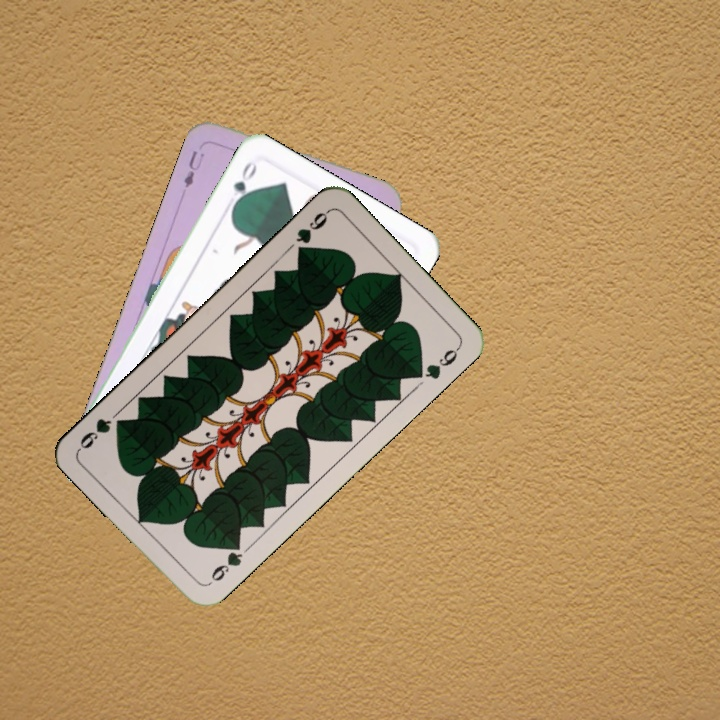EU: (179, 146, 208, 190)
G9: (291, 206, 332, 259), (207, 536, 246, 584)
GO: (228, 157, 260, 213)
